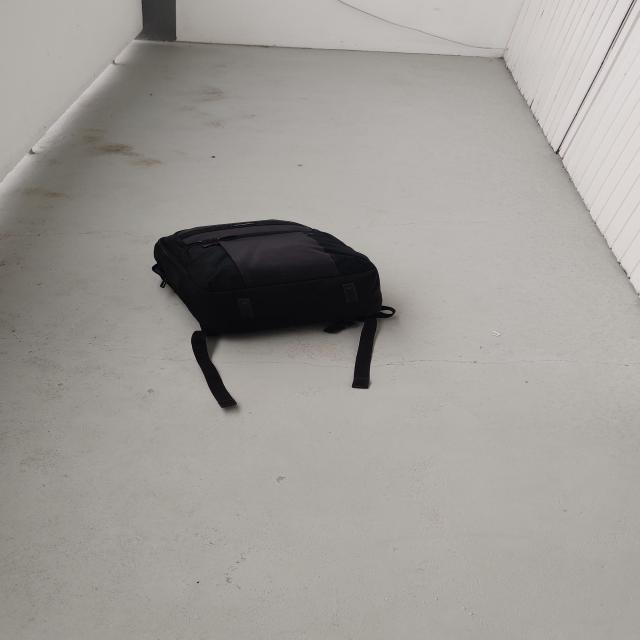backpack: (140, 215, 392, 343)
